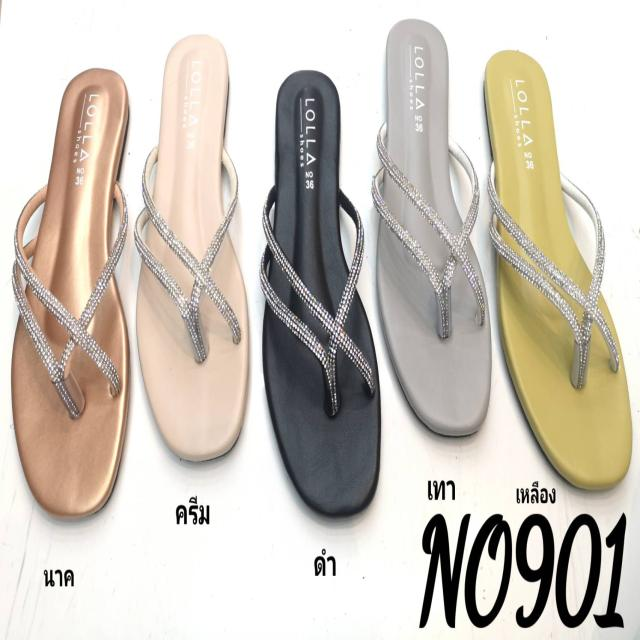black: (271, 70, 378, 505)
cream: (145, 29, 247, 462)
grey: (379, 19, 490, 439)
nak: (13, 71, 139, 511)
yellow: (481, 46, 632, 490)
